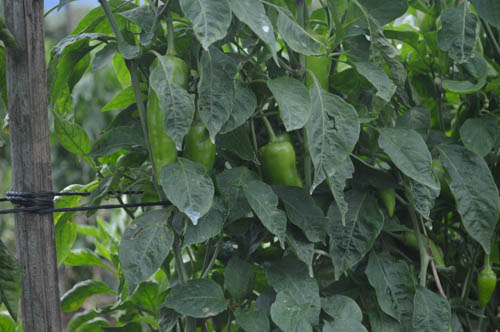ChiliPepper: (148, 54, 185, 180), (259, 143, 301, 189), (306, 34, 331, 93), (185, 125, 216, 171)
